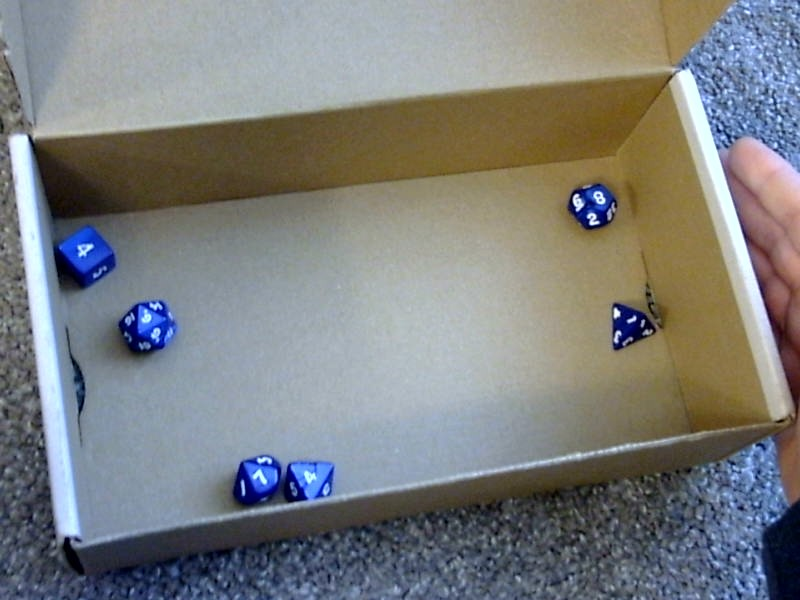d10 7: (233, 456, 282, 507)
d12 8: (558, 176, 621, 233)
d20 6: (115, 295, 182, 361)
d4 1: (603, 295, 659, 353)
d6 4: (50, 222, 120, 287)
d8 4: (286, 457, 336, 506)
